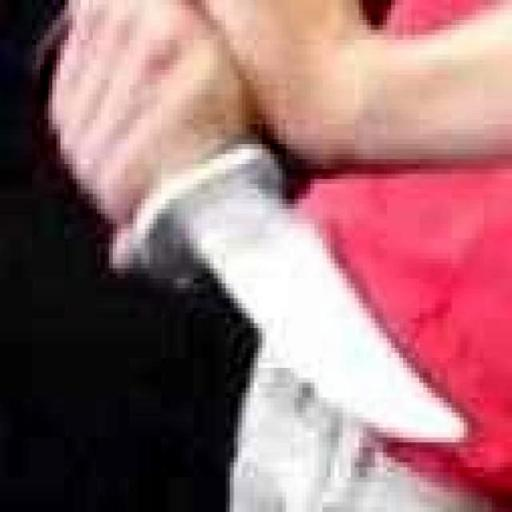knife: (29, 24, 483, 434)
